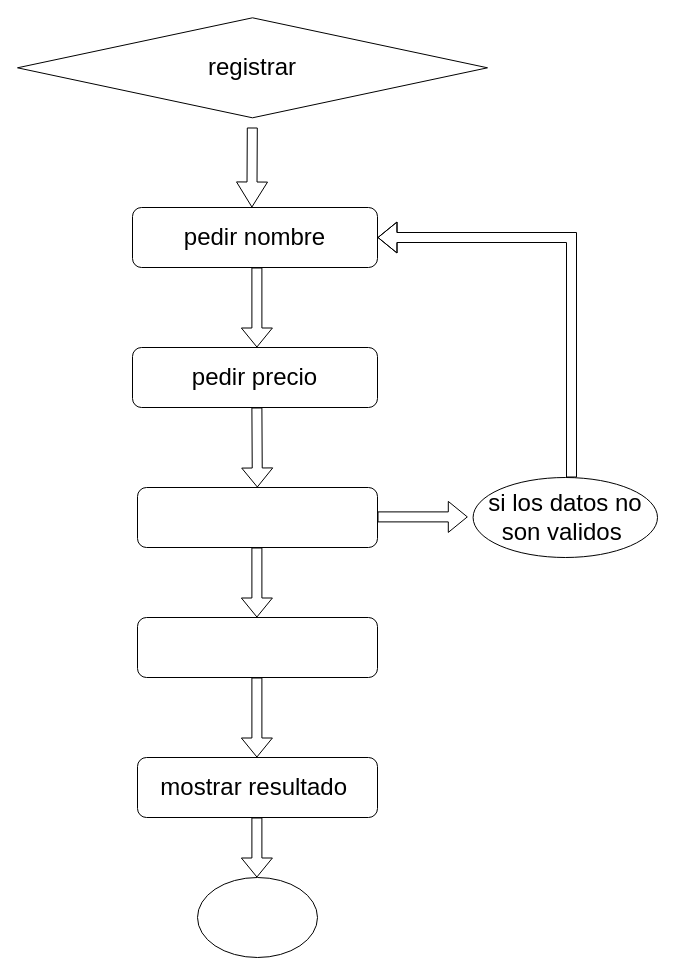
The diagram is 675 pixels wide and 975 high, and some of its shapes have lost their labels. Here are the shapes that lost their labels. From the top down, the centre of each, then its label:
At point 257,517: "pedir cantidad".
At point 257,647: "calcular costo total".
At point 257,917: "fin".
